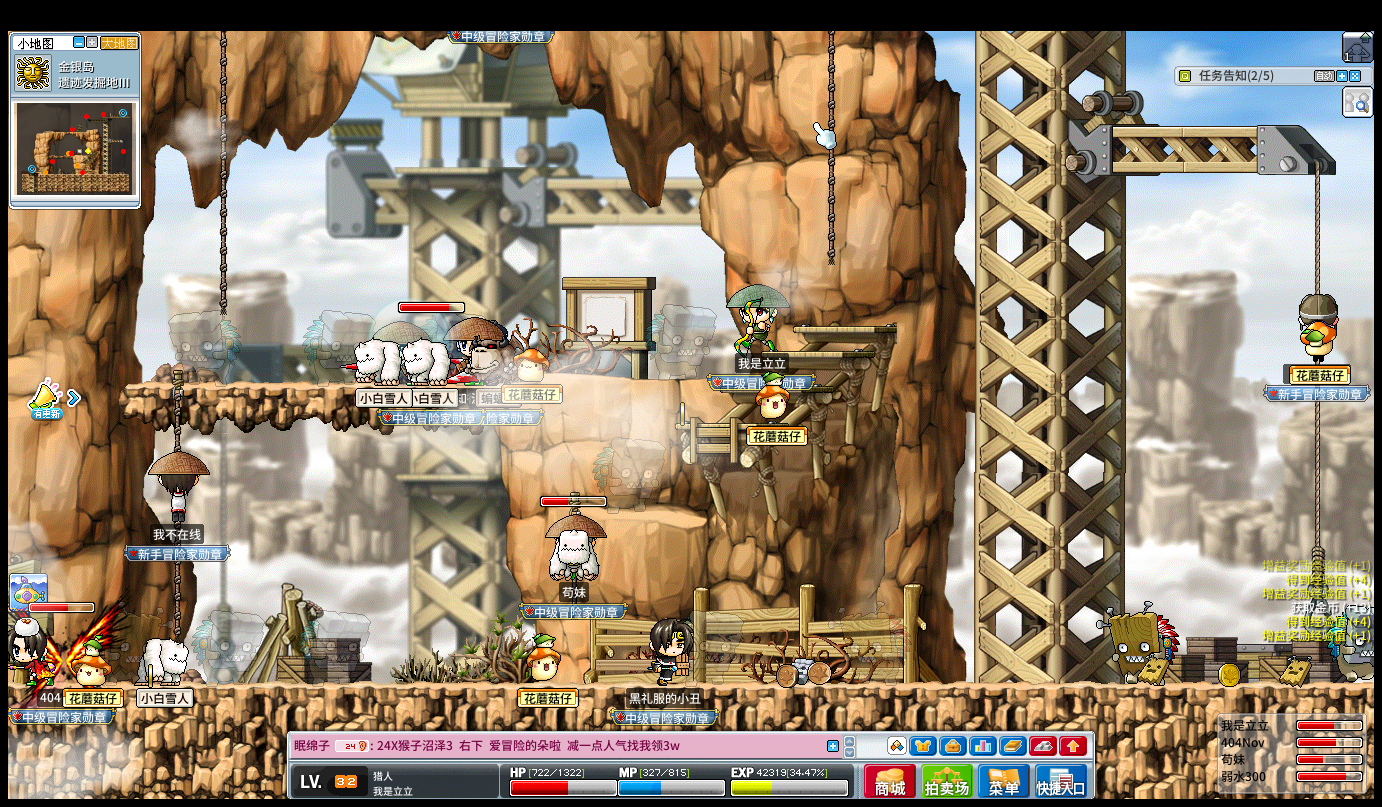floor: (125, 380, 507, 392), (1103, 122, 1310, 140), (597, 507, 708, 528), (557, 375, 745, 385), (673, 420, 816, 430), (672, 422, 815, 431), (756, 350, 874, 357), (798, 325, 896, 333)
monster: (1101, 603, 1180, 685), (191, 606, 267, 682), (592, 434, 666, 509), (169, 308, 241, 384), (301, 309, 370, 385), (644, 303, 710, 377), (1323, 606, 1379, 682)
rope: (217, 29, 229, 309), (216, 134, 229, 310), (825, 152, 837, 264), (1311, 403, 1321, 534), (218, 30, 228, 156), (825, 30, 837, 127), (1312, 170, 1321, 292), (170, 368, 182, 450), (170, 563, 181, 639)
